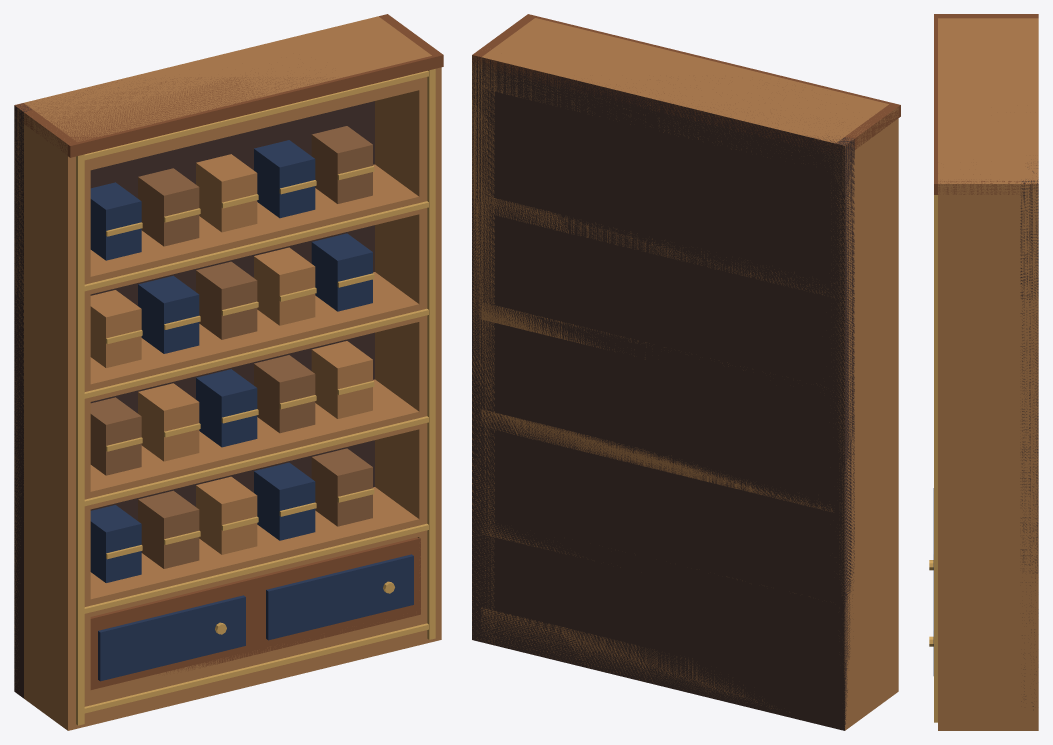
File: travel-cabinet.glb
3 views of the same model, side by side, from view 1: azimuth 30°, elevation 25°; view 2: azimuth 150°, elevation 25°; view 3: azimuth 270°, elevation 25° (orthographic). The views are drawn at different scales.
Parts seen in each view (by area): view 1: Side post.004, Shelf.017, Side post.005, Back.002, Crown.002, Lower doors.002, Shelf.014, Shelf.013, Shelf.016, Shelf.015, Shelf.012, Door panel.004 (+29 smaller); view 2: Back.002, Side post.004, Shelf.017, Side post.005, Crown.002, Shelf.014, Shelf.012, Shelf.016, Shelf.015; view 3: Side post.005, Shelf.017, Back.002, Post edging.005, Crown.002.
Boxes of the visible parts, x1=… form: Side post.004: x1=14, y1=108, x2=90, y2=730; Shelf.017: x1=24, y1=16, x2=431, y2=171; Side post.005: x1=375, y1=67, x2=441, y2=641; Back.002: x1=14, y1=87, x2=374, y2=698; Crown.002: x1=14, y1=14, x2=443, y2=157; Lower doors.002: x1=90, y1=537, x2=420, y2=689; Shelf.014: x1=84, y1=379, x2=427, y2=510; Shelf.013: x1=84, y1=487, x2=427, y2=618; Shelf.016: x1=84, y1=164, x2=427, y2=294; Shelf.015: x1=84, y1=272, x2=427, y2=402; Shelf.012: x1=77, y1=609, x2=432, y2=728; Door panel.004: x1=98, y1=595, x2=245, y2=681; Back.002: x1=472, y1=55, x2=854, y2=730; Side post.004: x1=831, y1=107, x2=898, y2=730; Shelf.017: x1=481, y1=18, x2=888, y2=165; Side post.005: x1=472, y1=48, x2=494, y2=644; Crown.002: x1=472, y1=14, x2=900, y2=155; Shelf.014: x1=481, y1=409, x2=833, y2=512; Shelf.012: x1=481, y1=607, x2=789, y2=712; Shelf.016: x1=482, y1=195, x2=834, y2=297; Shelf.015: x1=481, y1=302, x2=833, y2=392; Side post.005: x1=938, y1=174, x2=1038, y2=730; Shelf.017: x1=938, y1=18, x2=1038, y2=179; Back.002: x1=1020, y1=165, x2=1038, y2=710; Post edging.005: x1=934, y1=195, x2=937, y2=722; Crown.002: x1=934, y1=14, x2=1038, y2=194.
Size of the model in its own units: 2 by 3 by 0.542.
